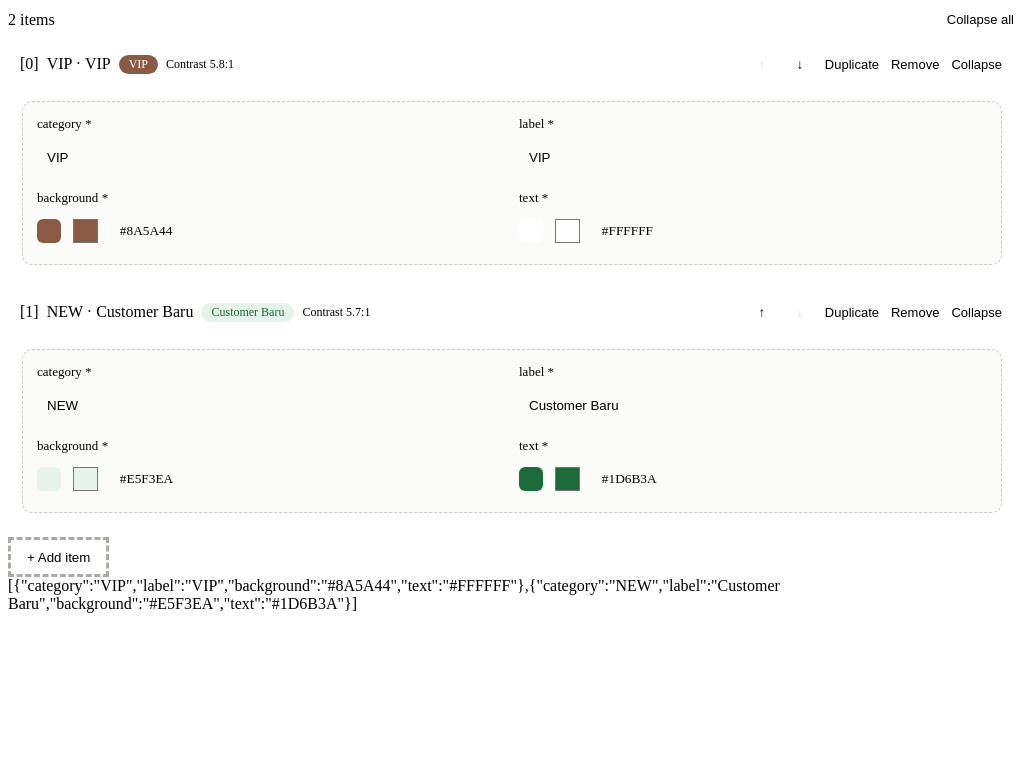
Scenario: SchemaForm › edits colors and warns about low contrast
This screenshot has width=1024, height=768.
Expected: the text "VIP" has style "color: #FFFFFF", [119,54,158,74]
Expected: the text "Contrast 5.8:1" is shown 2 times, [166,56,234,72]; [302,304,370,320]
Replace the text in the 1st field labelled "text *" with "#8A5A44". click: (789, 231)
box: [592,212,987,250]
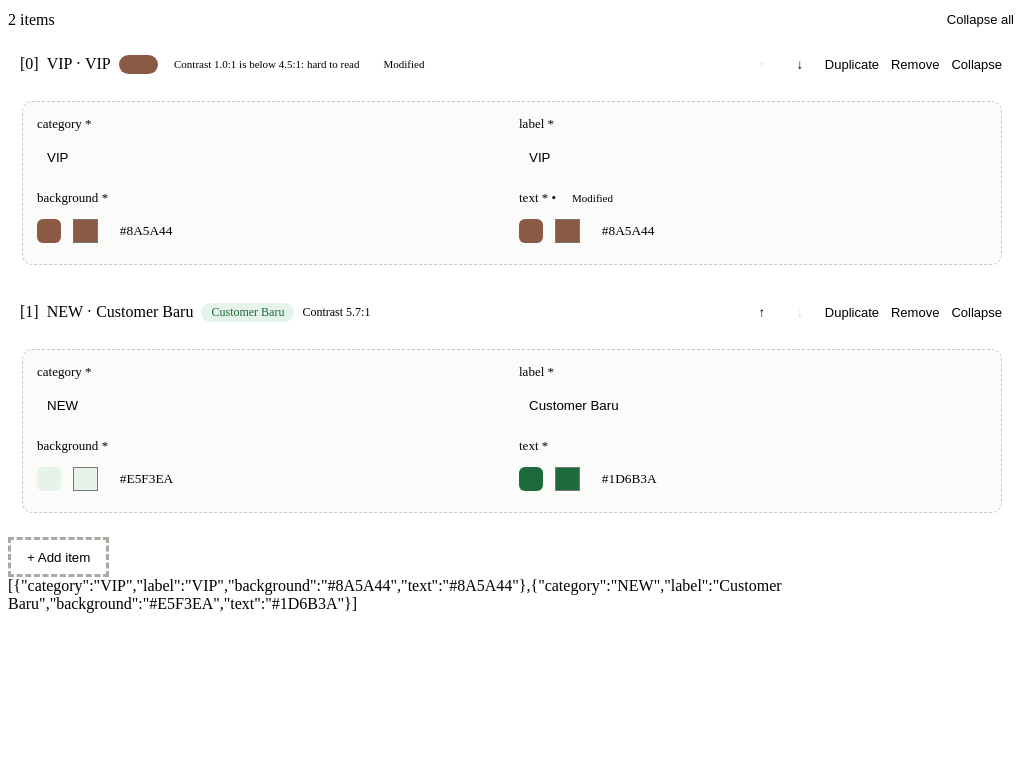
Expected: the text "Contrast 1.0:1 is below 4.5:1: hard to read" is shown, [166,56,368,72]
Type "#112233" into the colour field named "background picker" below "VIP · VIP". click: (85, 231)
box: [69,213,102,249]
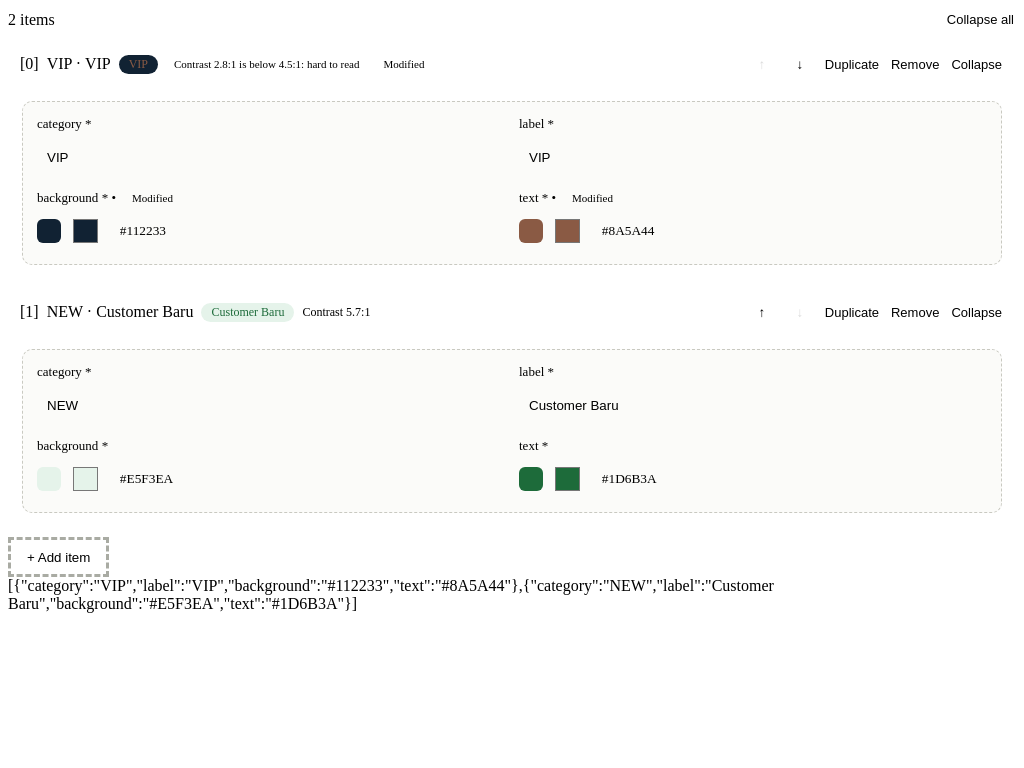
Clear the 1st field labelled "text *". click: (789, 231)
box: [592,212,987,250]
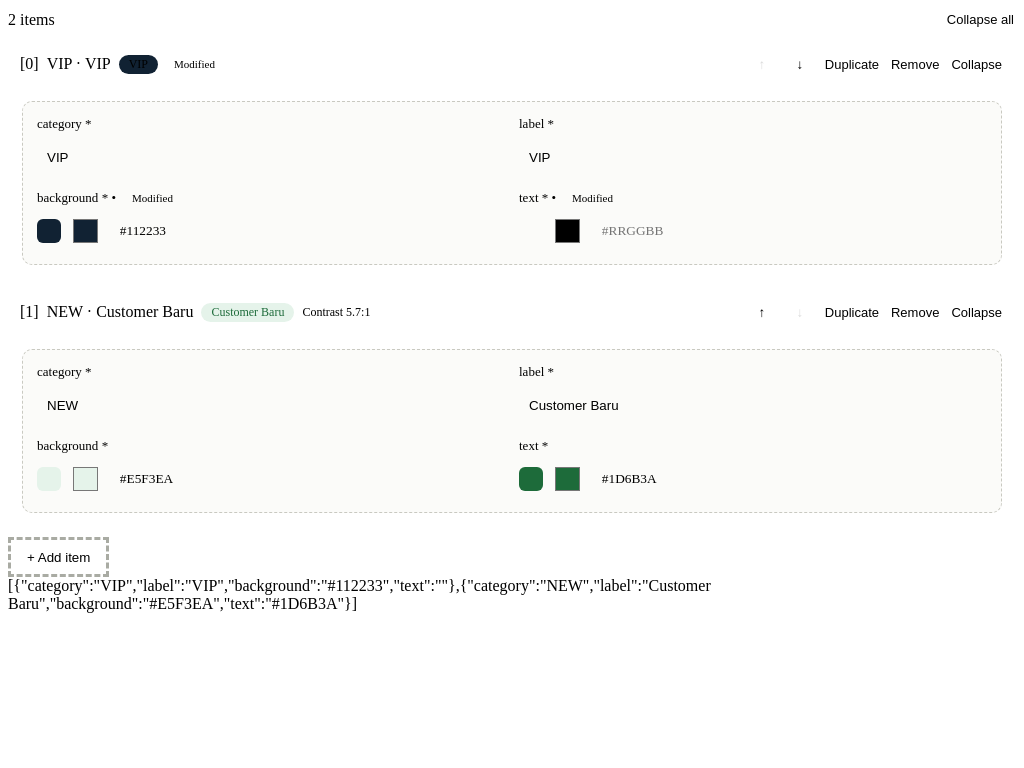
Expected: the 1st colour field named "text picker" holds "#000000", [551,213,584,249]
